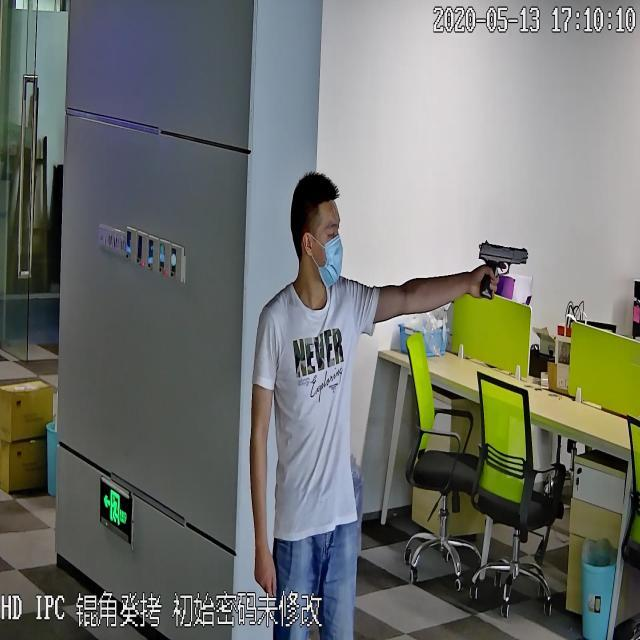gun: (473, 237, 529, 300)
